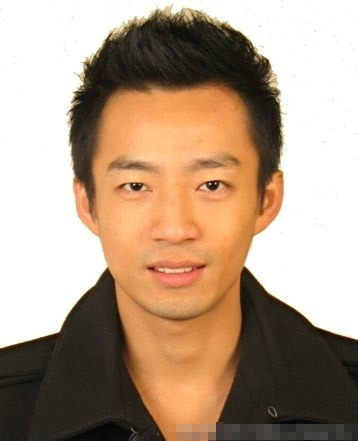unmask: (101, 108, 259, 305)
